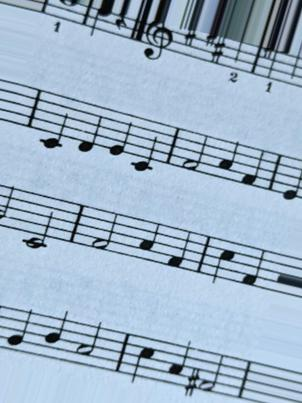A: (167, 336, 191, 392), (137, 214, 160, 270), (216, 135, 240, 187)
B: (45, 306, 71, 367)
D: (76, 97, 104, 158)
E: (108, 105, 135, 160), (281, 151, 302, 206)
F: (165, 222, 192, 282), (239, 239, 267, 293), (240, 140, 265, 194)
G: (4, 301, 34, 359)
HC: (129, 330, 154, 385), (211, 233, 234, 289)
LC: (36, 84, 68, 155), (128, 111, 159, 179)
